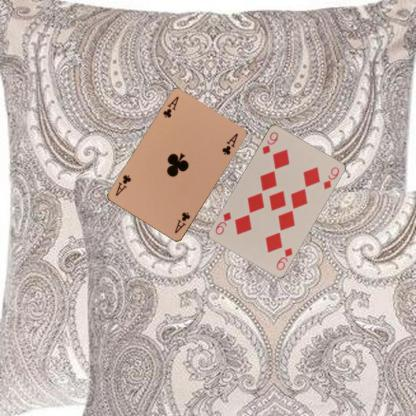9d: (274, 244, 294, 271), (260, 129, 280, 155)
Ac: (160, 94, 180, 120), (172, 210, 191, 234)
